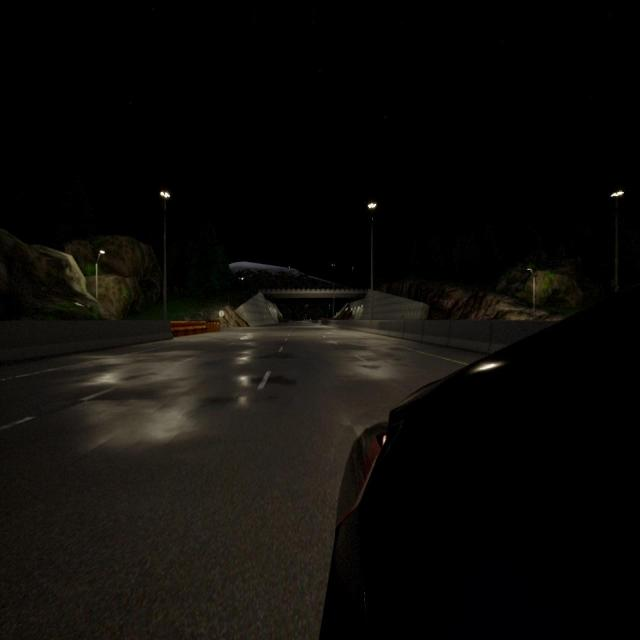Traffic_Signs: (219, 310, 224, 317)
Vehicle: (318, 281, 640, 640)
